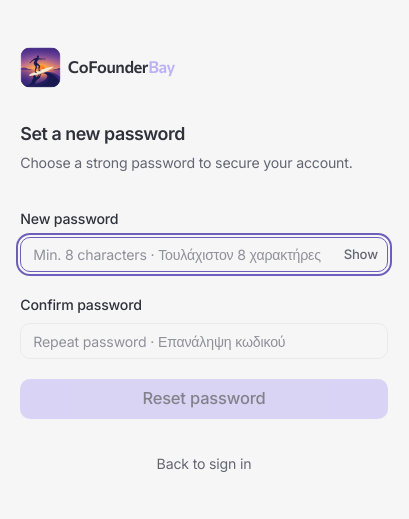
Test: reset password validation › associates the visible mismatch with the invalid confirmation field
This screenshot has width=409, height=519.
In the password field labelled "New password": (204, 254) [20, 237, 388, 272], type "abcdefgh"
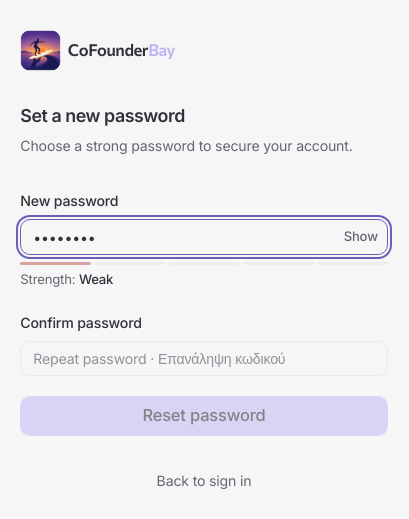
In the password field labelled "Confirm password": (204, 358) [20, 341, 388, 376], type "different"
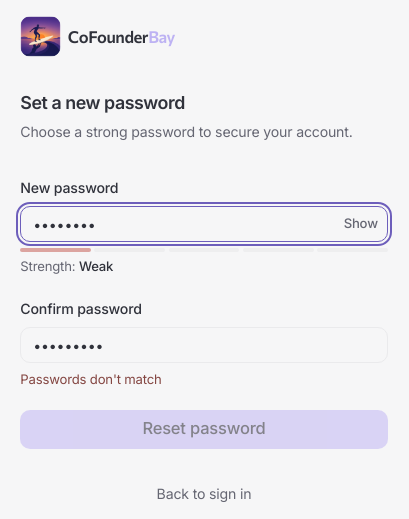
Check: the password field labelled "Confirm password" is marked as invalid, box [20, 328, 388, 363]
Check: the password field labelled "Confirm password" has attribute aria-describedby="confirm-mismatch", box [20, 328, 388, 363]
